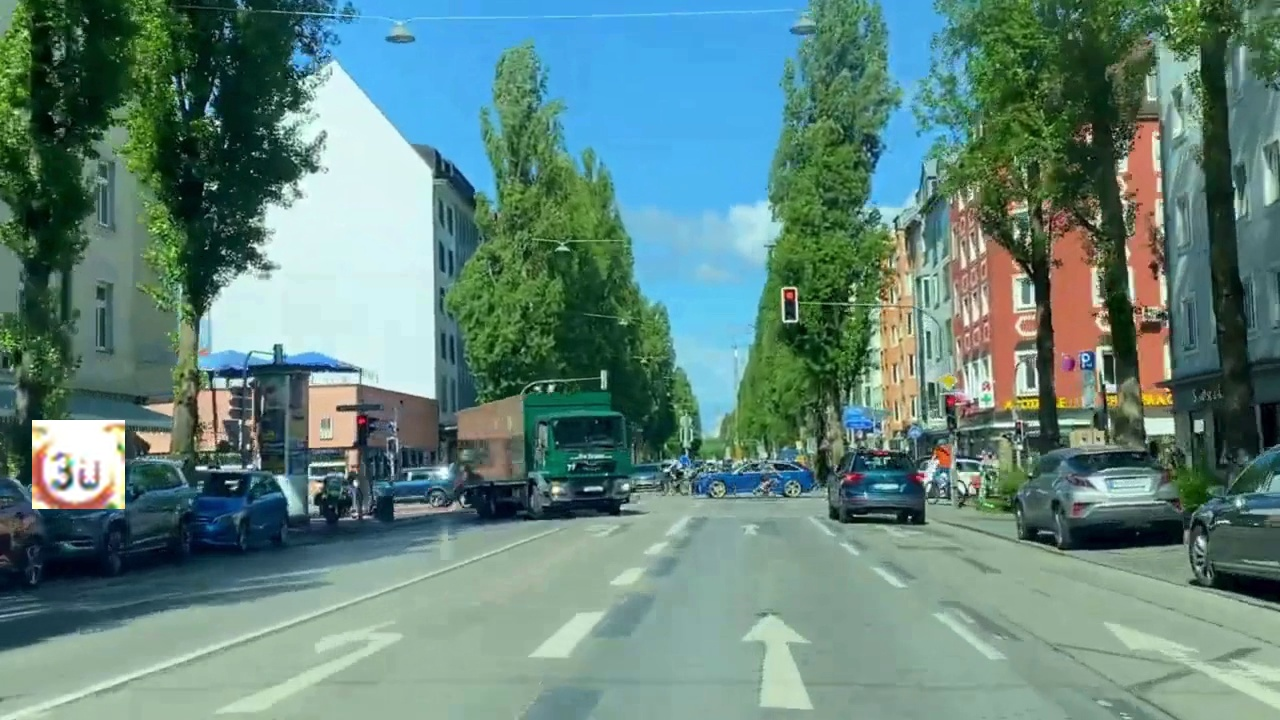Speed 30: (32, 420, 125, 509)
